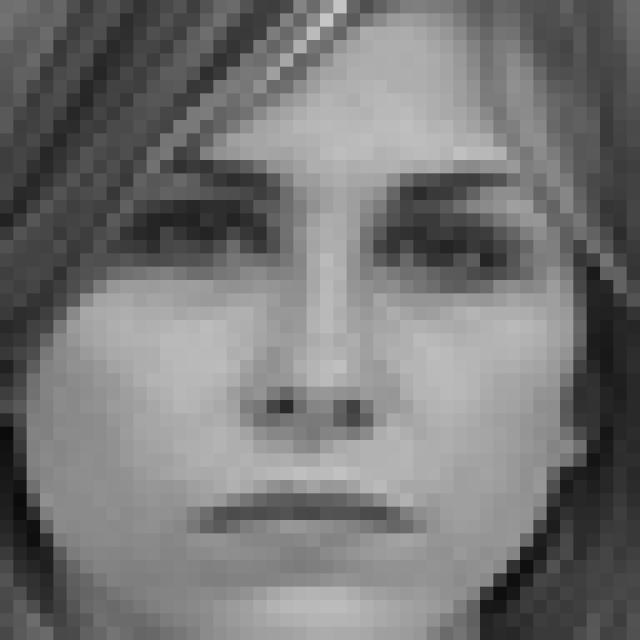neutral: (116, 143, 547, 574)
